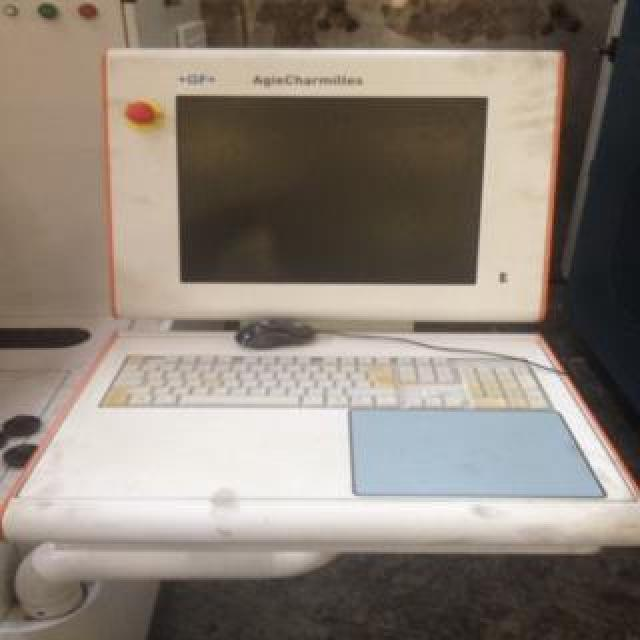laptop_computer: (67, 41, 639, 563)
mouse: (232, 320, 328, 363)
